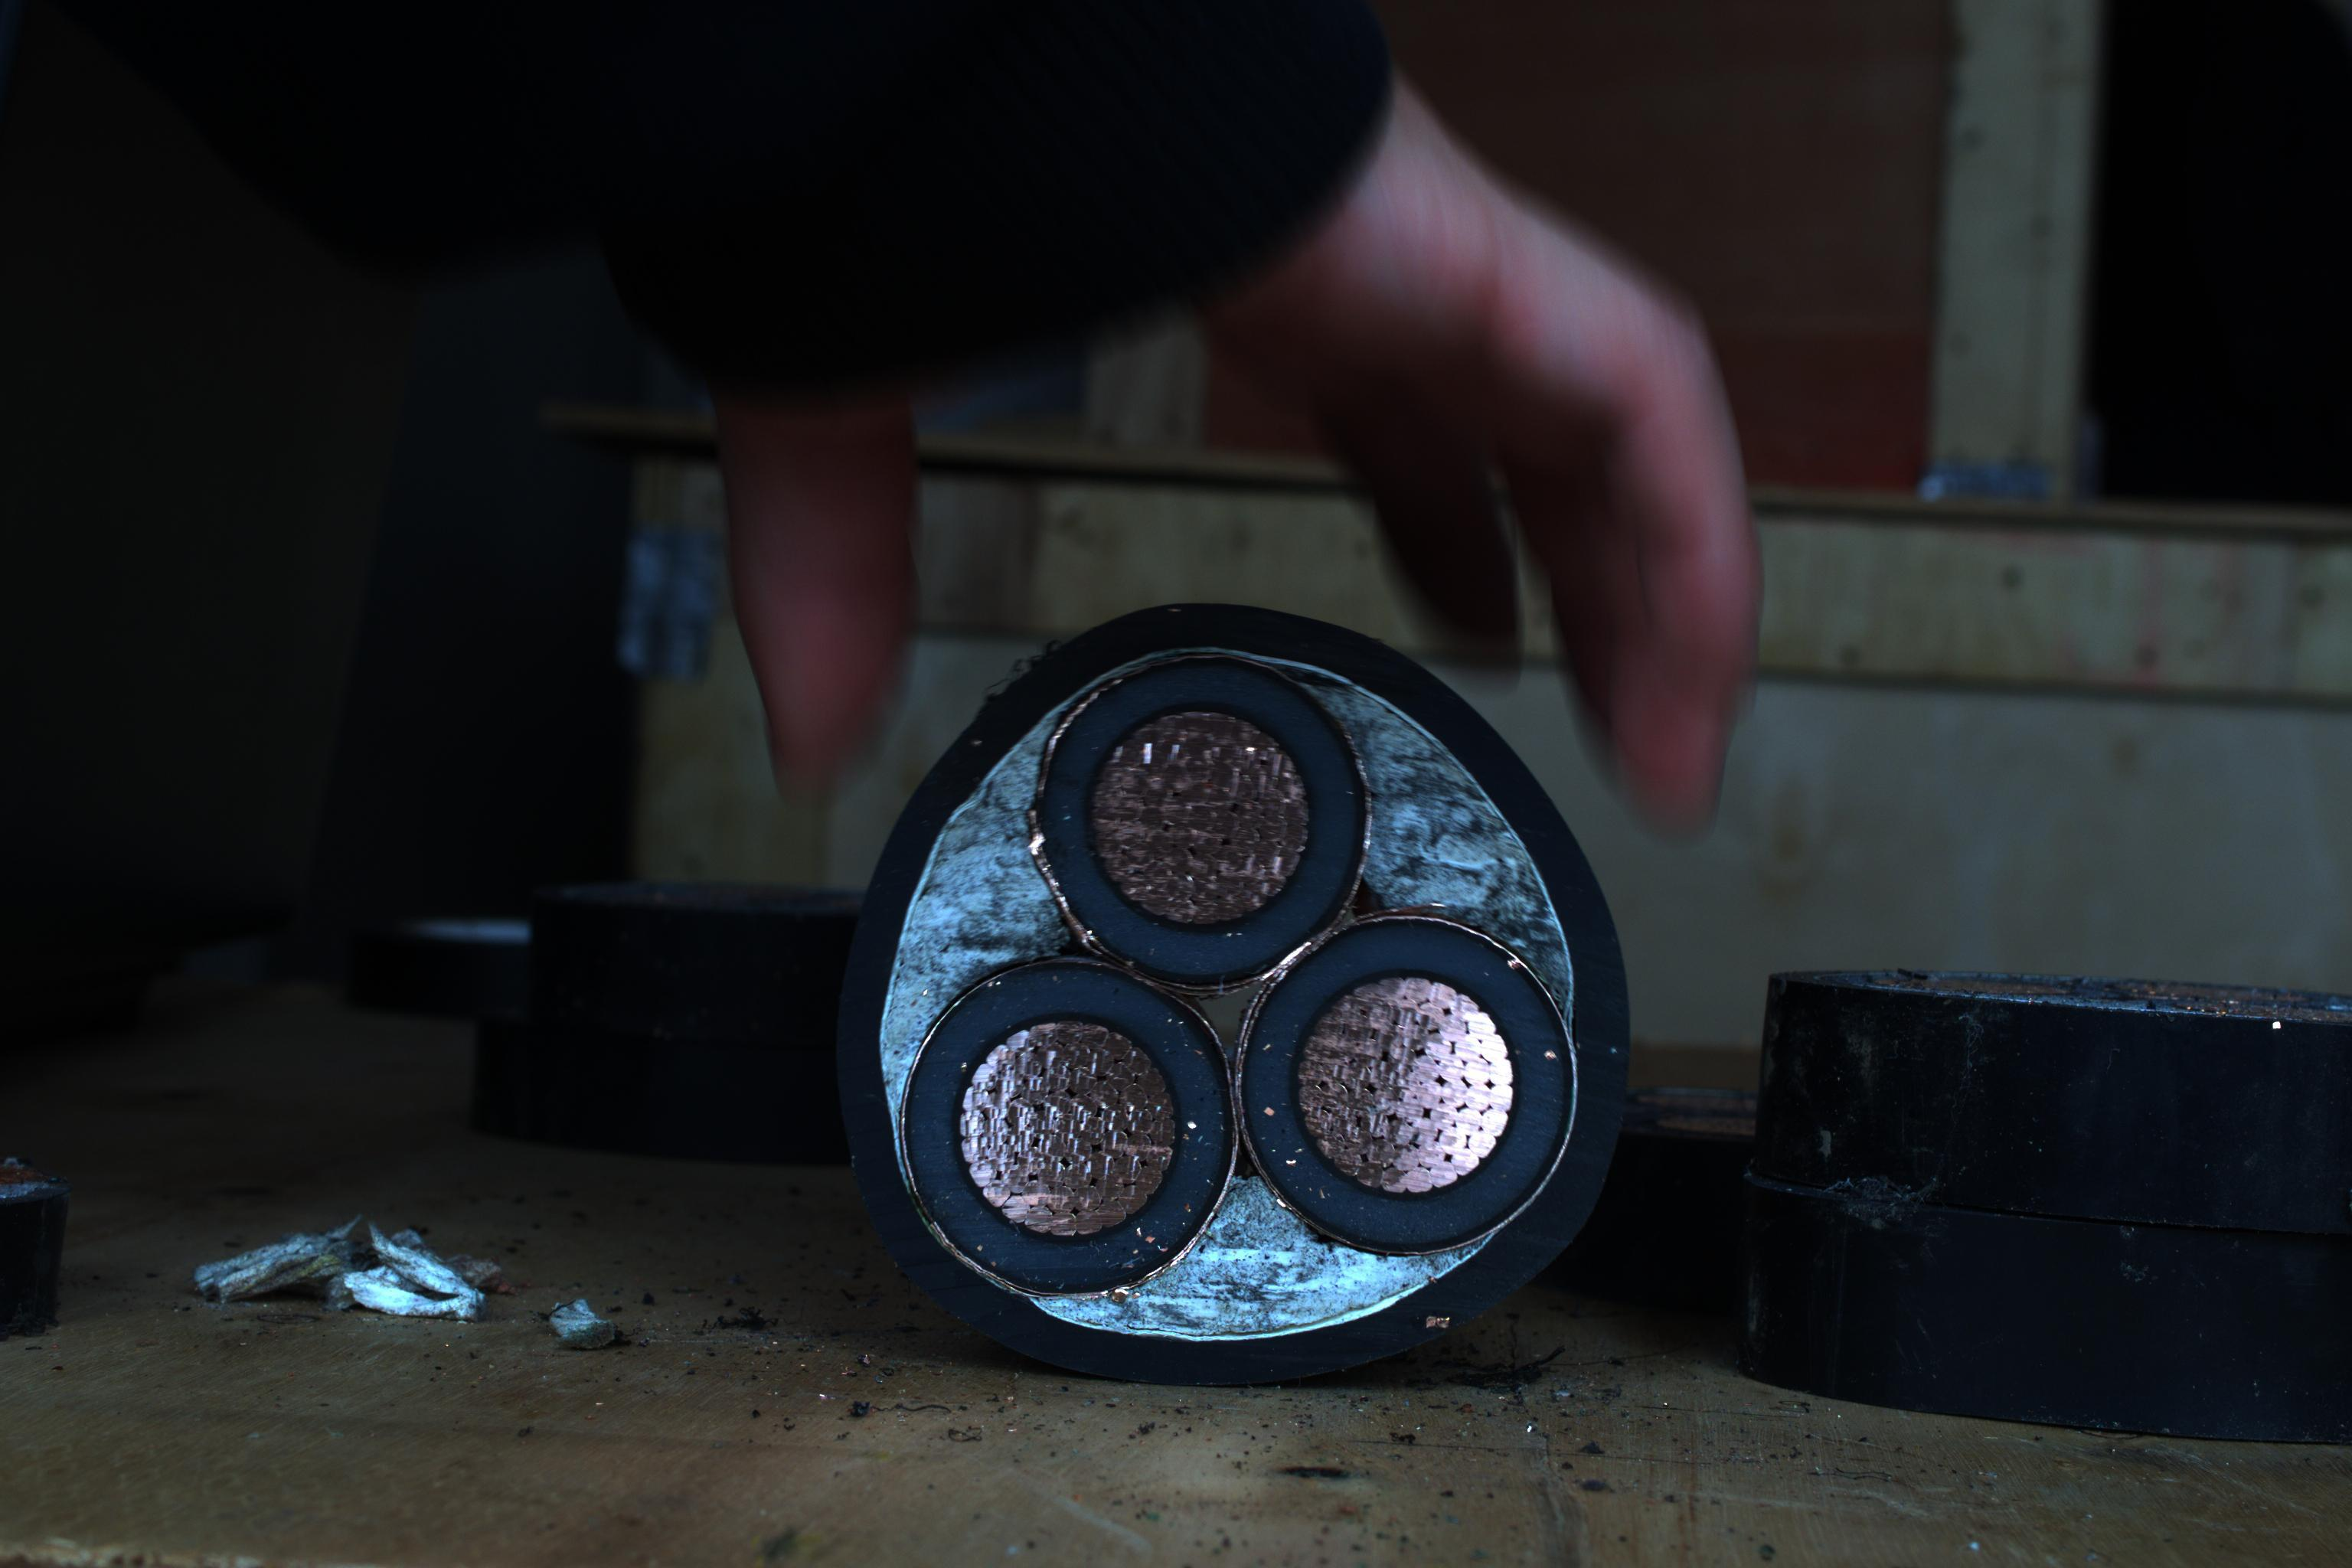ZA_YJV_8.7_10kV_3x400: (861, 632, 1641, 1386)
